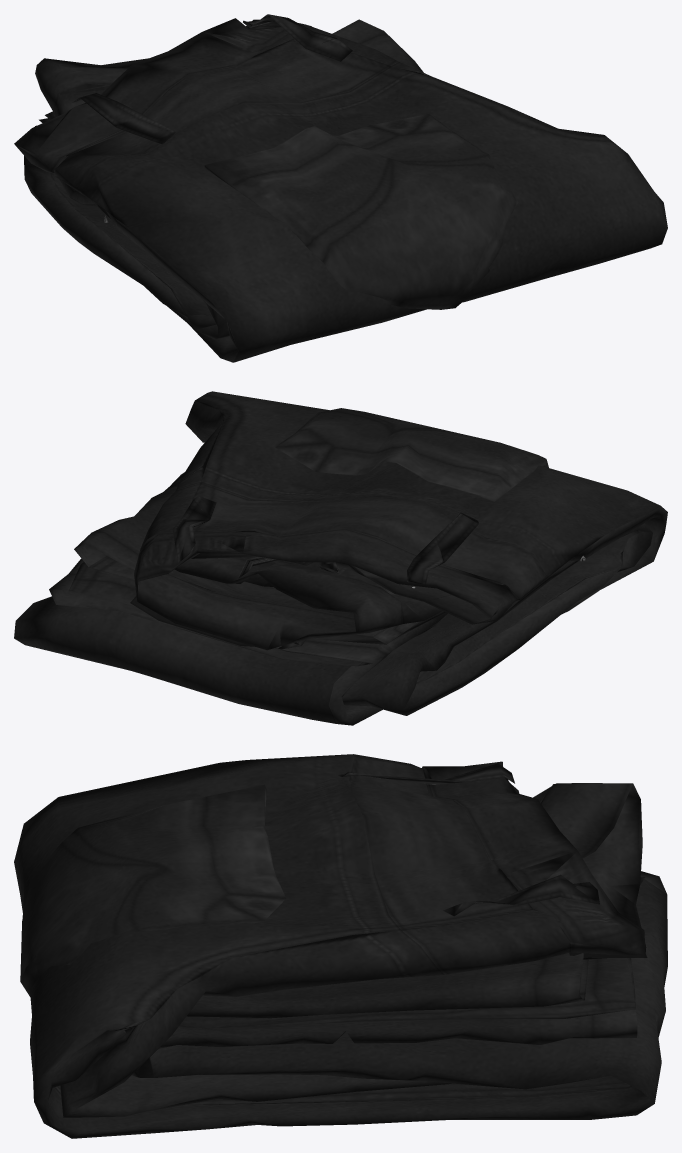
Rendered from Folded clothes 5.fbx.
The picture shows the model from 3 angles, top to bottom: view 1: azimuth 30°, elevation 25°; view 2: azimuth 150°, elevation 25°; view 3: azimuth 270°, elevation 25°; orthographic projection. The views are drawn at different scales.
Parts seen in each view (by area): view 1: Folded clothes 5; view 2: Folded clothes 5; view 3: Folded clothes 5.
Boxes of the visible parts, x1,y1,x2,y2 form: Folded clothes 5: [14, 14, 667, 362]; Folded clothes 5: [14, 391, 667, 725]; Folded clothes 5: [14, 754, 667, 1138].
Bounding box in the file's own units: 30.8 × 8.4 × 30.59.
Materials: 1 (1 with a texture image).
